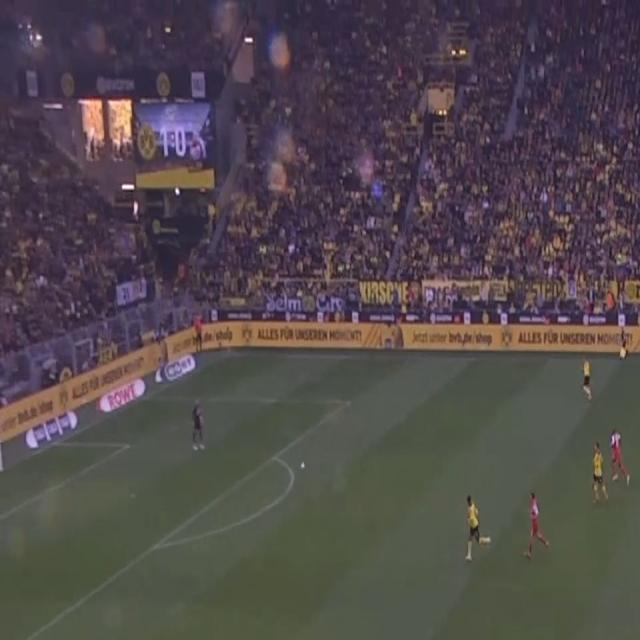ball: (300, 460, 306, 472)
